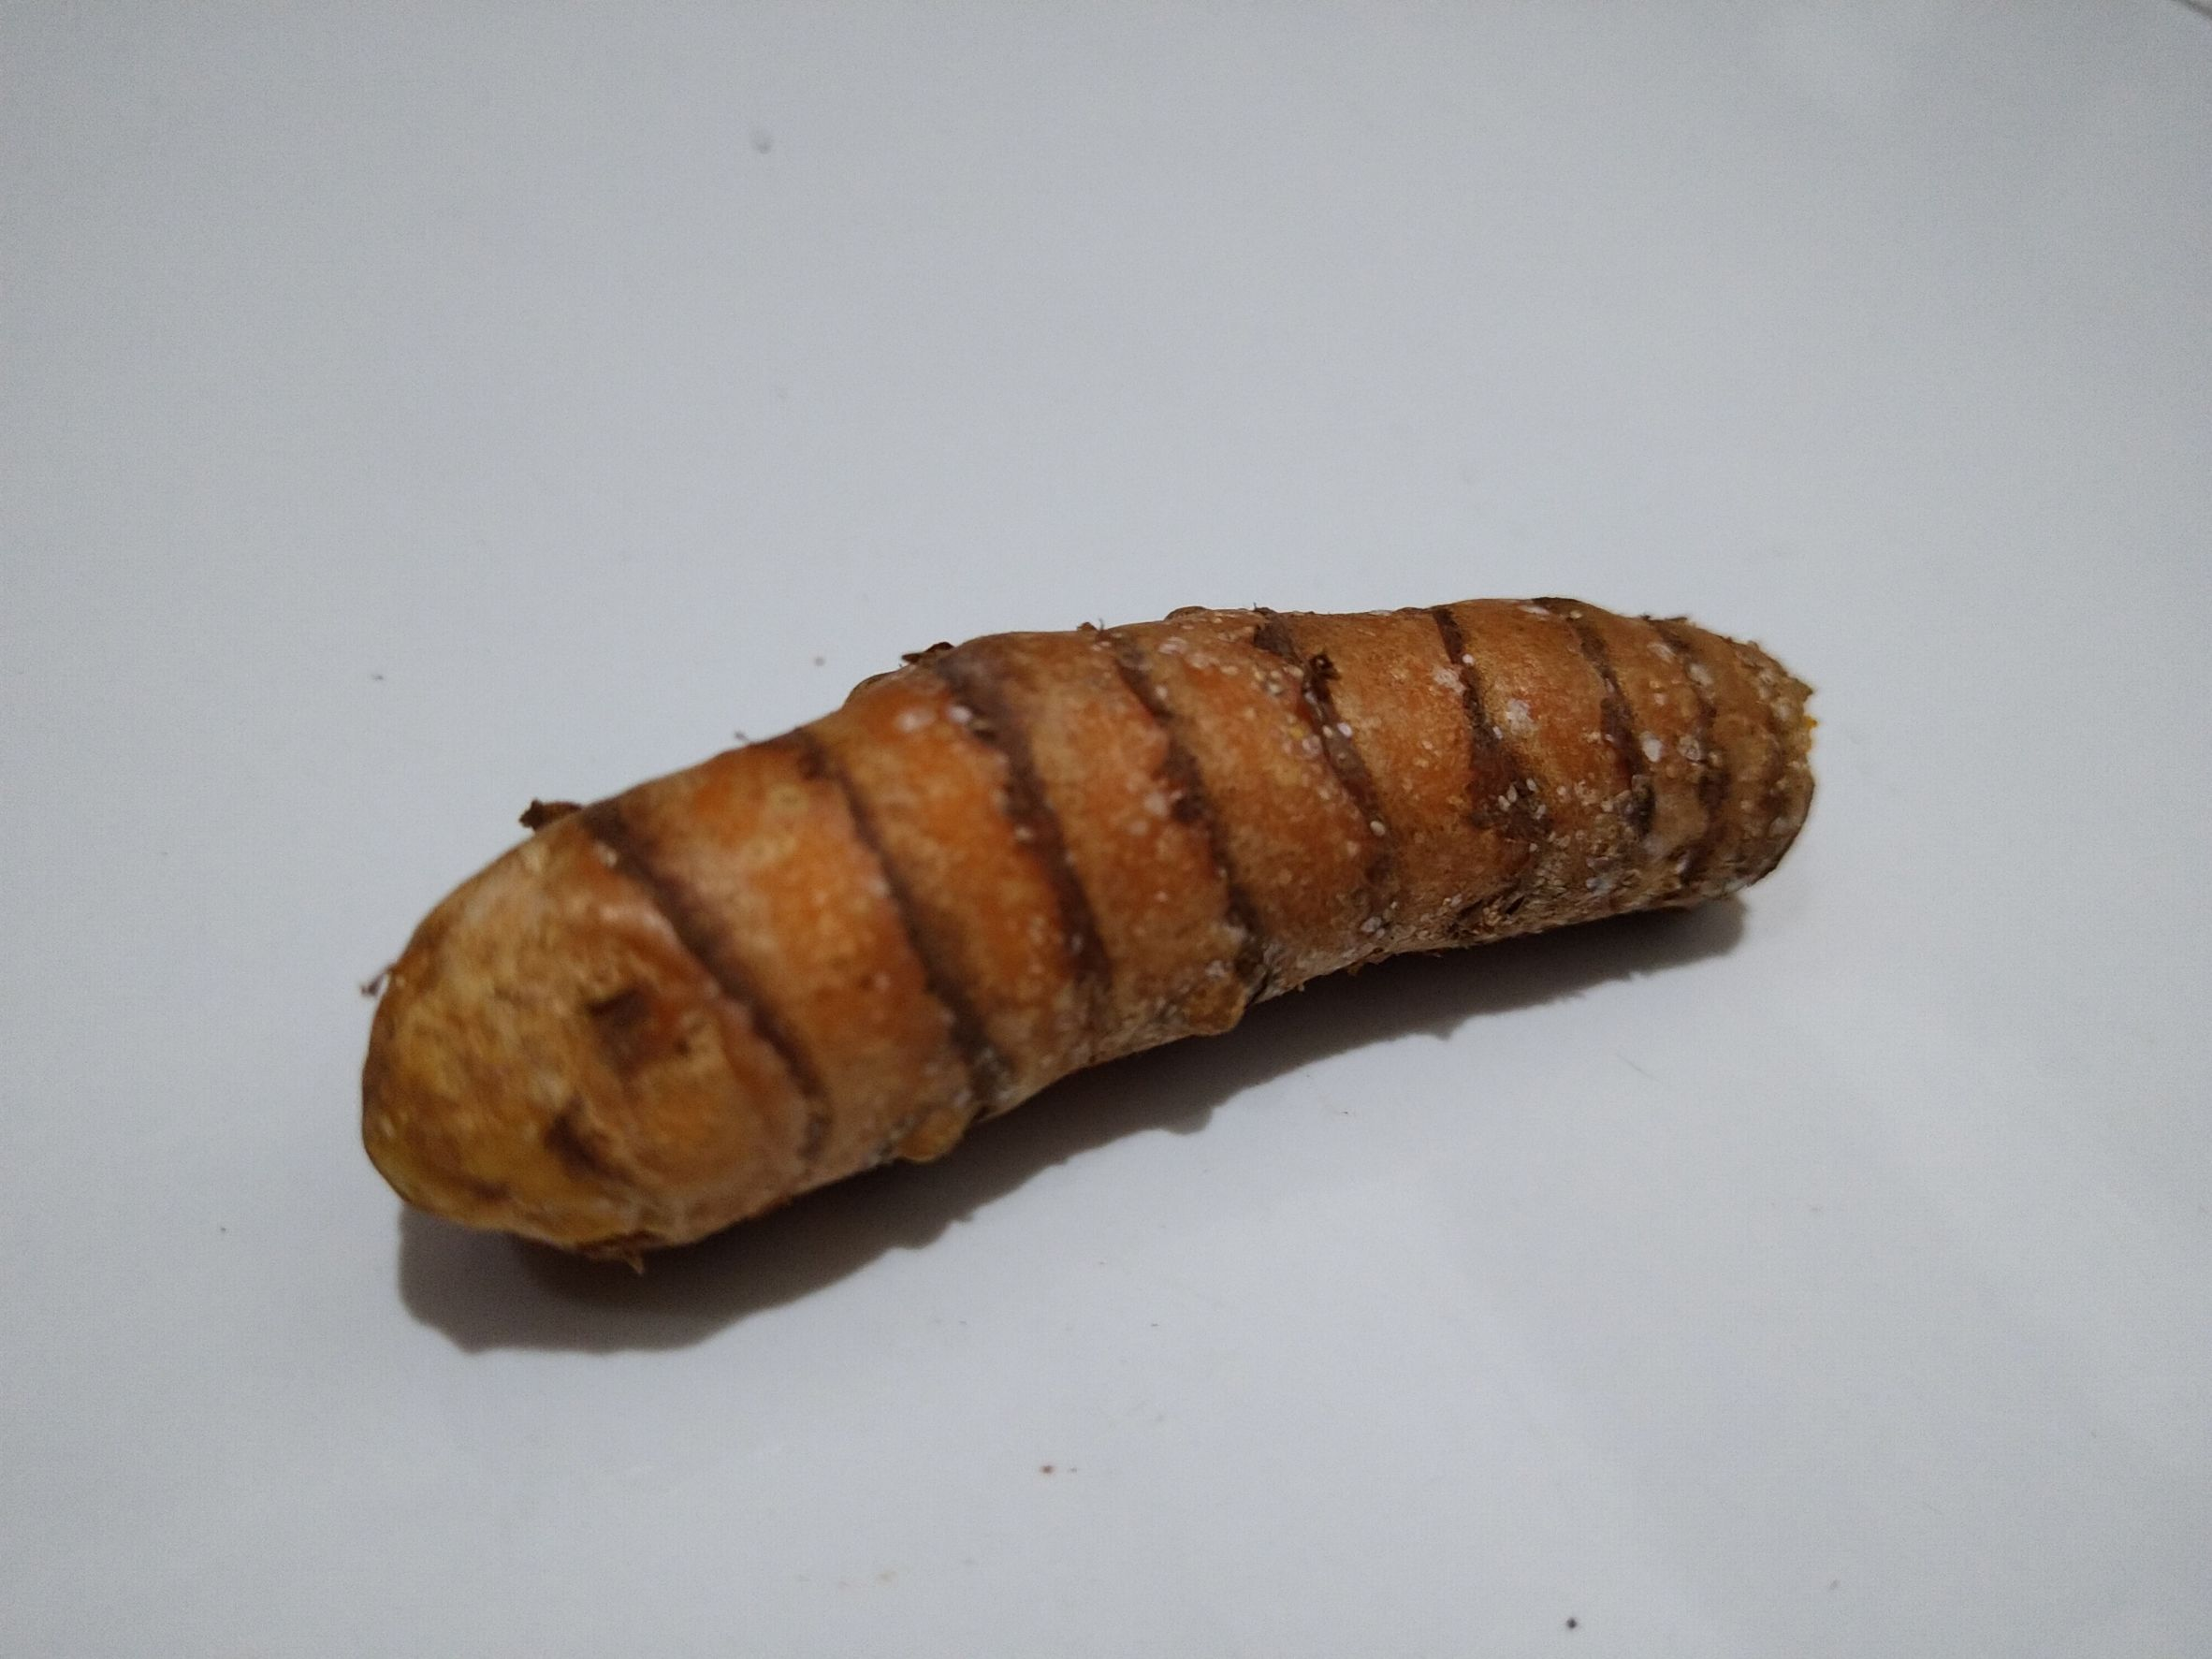Kunyit: (354, 619, 1818, 1286)
